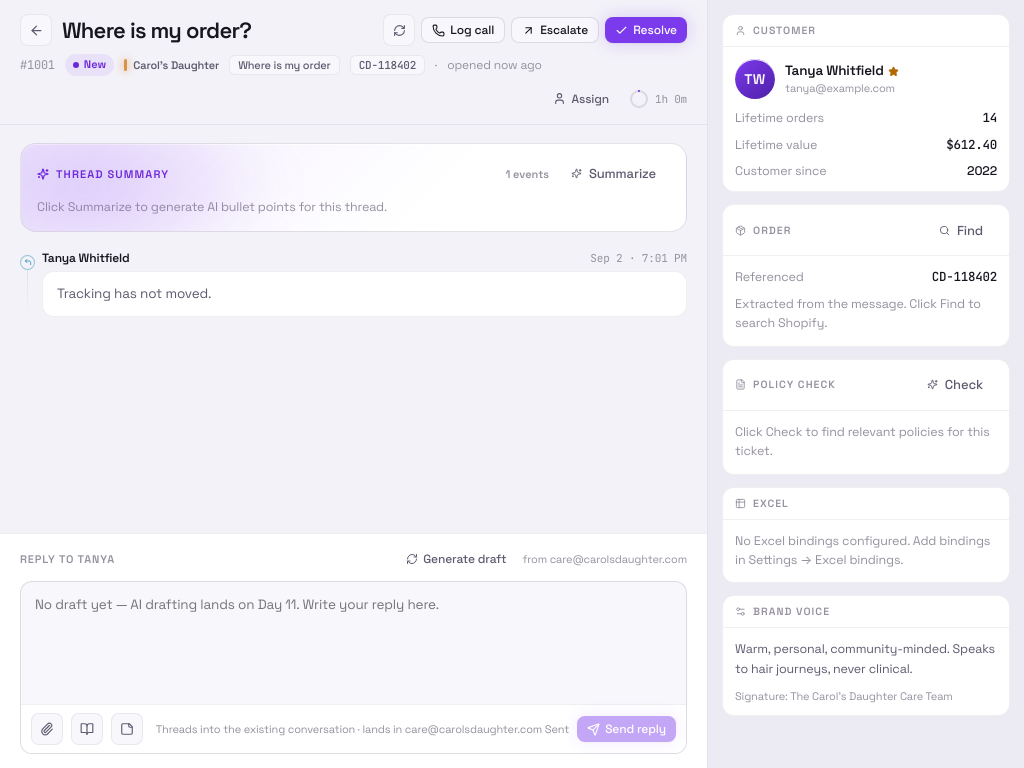
sending a reply › tells the agent to retry rather than rewrite when the outcome is unknown
Replace the text in the text box with placeholder "Write your reply here" with "Did this go out?" at point(354, 641), box [21, 582, 686, 700]
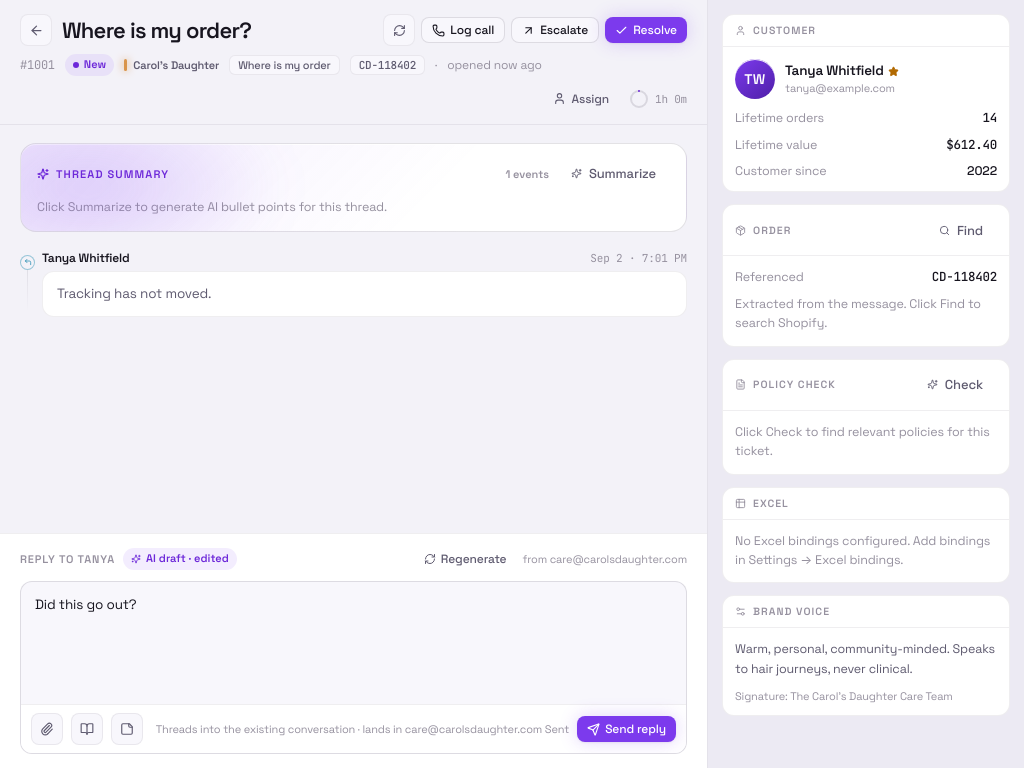
Click the button "Send reply" at point(627, 729), box [577, 716, 676, 742]
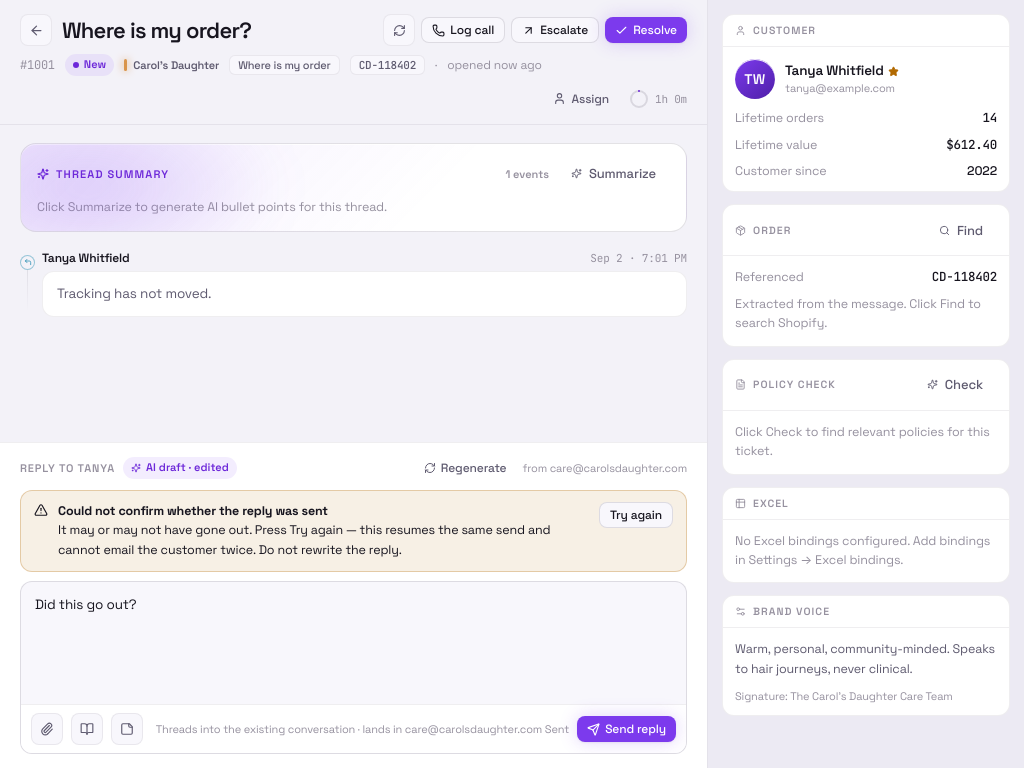
Check: the text "Could not confirm whether the reply was sent" is shown, box [58, 503, 328, 519]
Check: the text "Do not rewrite the reply" is shown, box [58, 522, 550, 558]
